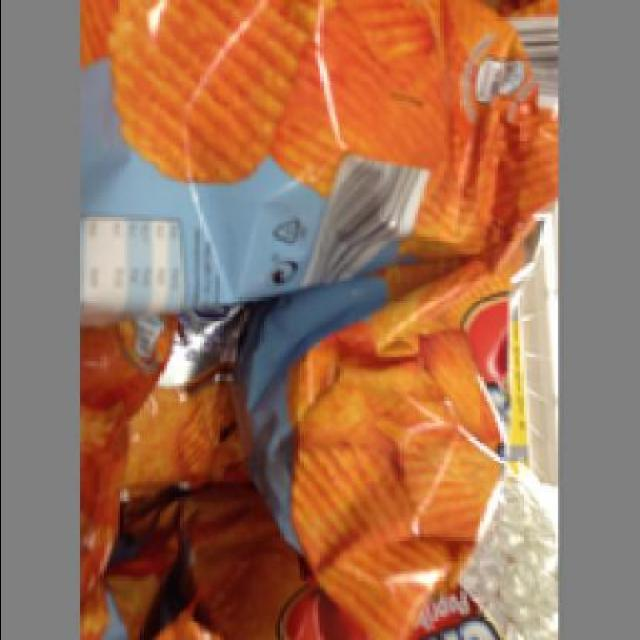Chips: (83, 2, 546, 290), (260, 263, 514, 637)
